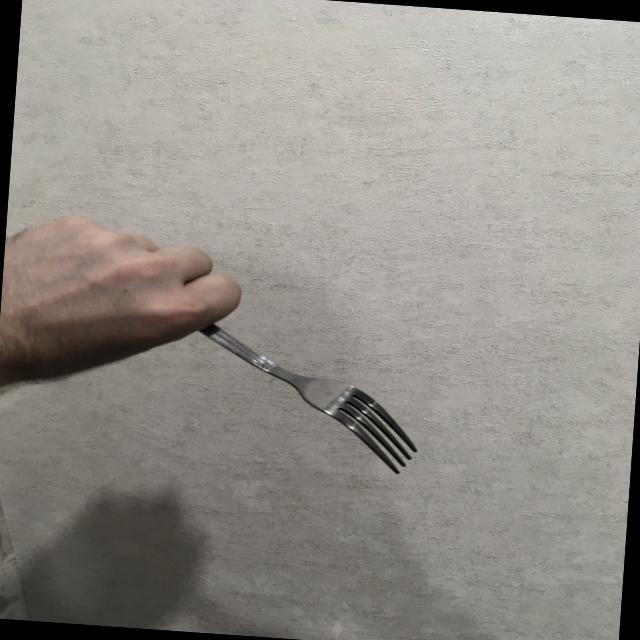fork: (172, 299, 428, 476)
